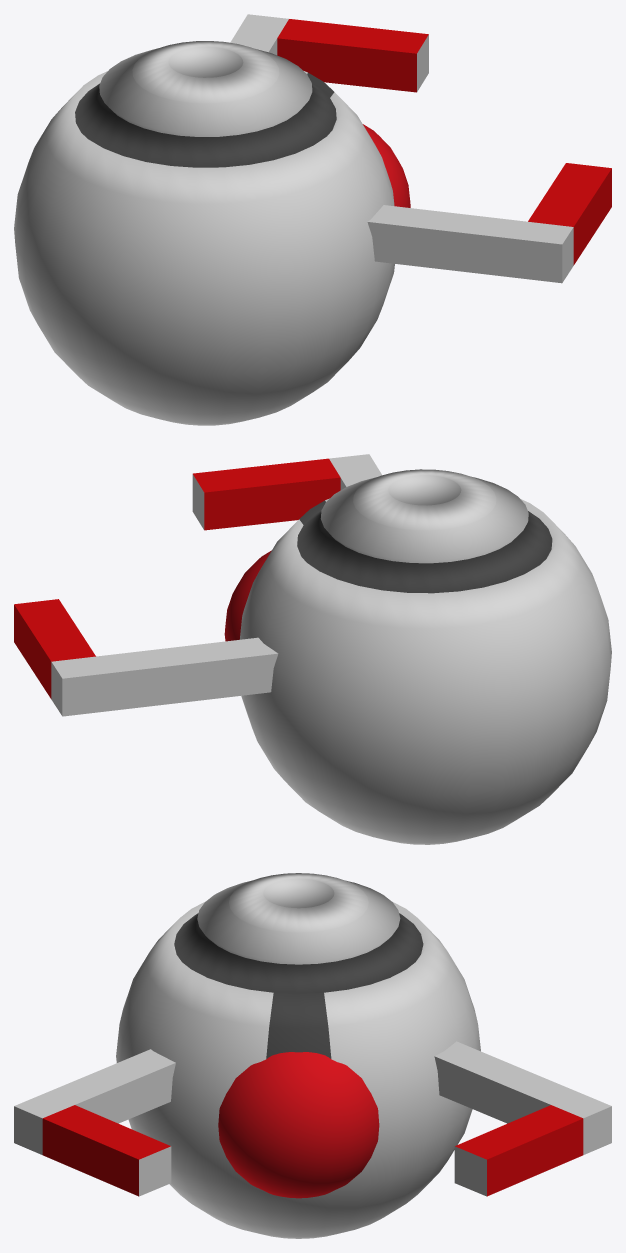
Rendered from dronbig.fbx.
The picture shows the model from 3 angles, top to bottom: view 1: azimuth 30°, elevation 25°; view 2: azimuth 150°, elevation 25°; view 3: azimuth 270°, elevation 25°; orthographic projection. The views are drawn at different scales.
Visible parts, largest first — view 1: Sphere, Cube.001, Cube, Sphere.001; view 2: Sphere, Cube, Cube.001, Sphere.001; view 3: Sphere, Sphere.001, Cube, Cube.001.
Part boxes in pixels (x1=…): Sphere: x1=14, y1=41, x2=394, y2=425; Cube.001: x1=367, y1=163, x2=611, y2=283; Cube: x1=230, y1=14, x2=428, y2=92; Sphere.001: x1=363, y1=124, x2=410, y2=207; Sphere: x1=239, y1=469, x2=611, y2=844; Cube: x1=14, y1=599, x2=278, y2=716; Cube.001: x1=192, y1=454, x2=381, y2=530; Sphere.001: x1=224, y1=550, x2=271, y2=641; Sphere: x1=116, y1=873, x2=480, y2=1238; Sphere.001: x1=218, y1=1052, x2=379, y2=1198; Cube: x1=434, y1=1041, x2=611, y2=1196; Cube.001: x1=14, y1=1049, x2=175, y2=1196.
Size of the model in its own units: 293 by 200 by 327.
